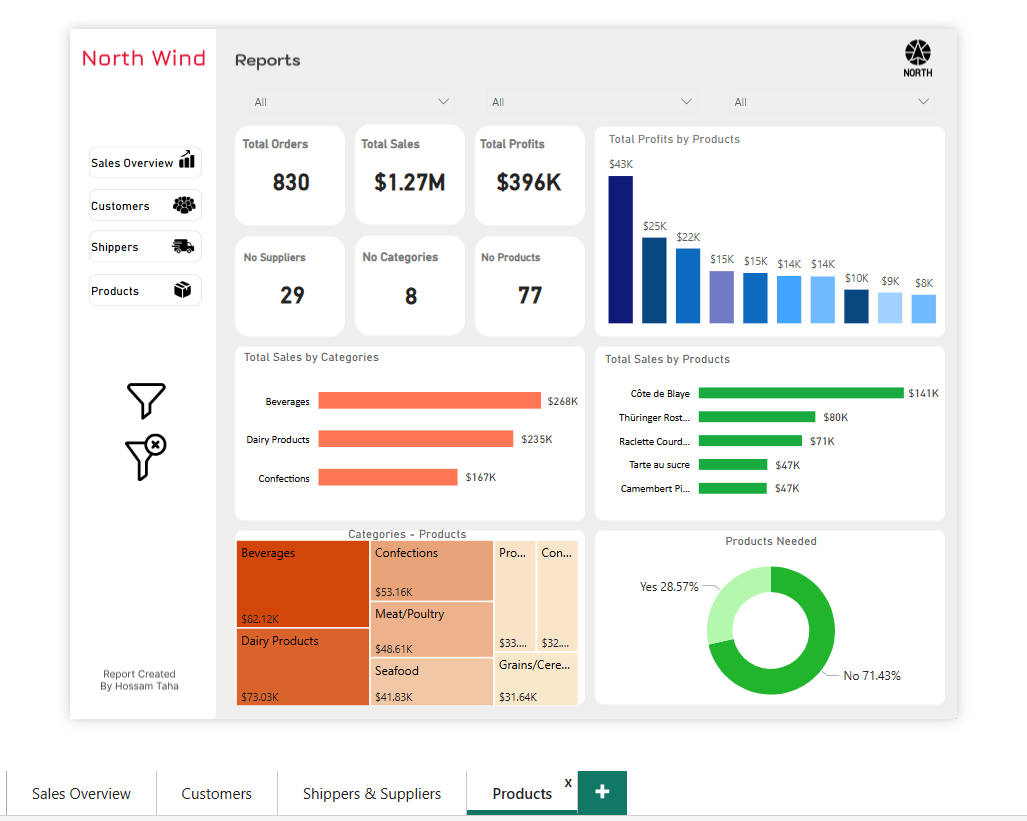

The dashboard page shown, as its layout file describes it:
{"tool":"powerbi","page":{"name":"Products","canvas":[887,690],"ordinal":3},"visuals":[{"type":"card","title":"Total Orders","fields":{"Values":["Orders (2).Total Orders"]},"box":[167.8,107.8,107.8,76.7],"z":0},{"type":"shape","box":[18.9,117.8,113.3,32.2],"z":0,"group":"g2"},{"type":"shape","box":[18.9,161.1,113.3,32.2],"z":1000,"group":"g2"},{"type":"card","title":"No Products","fields":{"Values":["Products.No Products"]},"box":[405.8,221.1,107.8,76.7],"z":1000},{"type":"card","title":"Total Sales","fields":{"Values":["Orders (2).Total Sales"]},"box":[286.7,107.8,107.8,76.7],"z":2000},{"type":"shape","box":[18.9,202.3,113.3,32.2],"z":2000,"group":"g2"},{"type":"card","title":"No Categories","fields":{"Values":["Categories.No Categories"]},"box":[286.9,221.1,107.8,76.7],"z":3000},{"type":"shape","box":[18.9,245.6,113.3,32.2],"z":3000,"group":"g2"},{"type":"image","box":[101,115.6,31.3,30.2],"z":4000,"group":"g2"},{"type":"card","title":"No Suppliers","fields":{"Values":["Suppliers.No Suppliers"]},"box":[168.9,221.1,107.8,76.7],"z":4000},{"type":"card","title":"Total Profits","fields":{"Values":["Order_Details.Total Profit"]},"box":[405.6,107.8,107.8,76.7],"z":5000},{"type":"image","box":[98,160.9,34.2,32.2],"z":5000,"group":"g2"},{"type":"image","box":[94.1,202.1,38.1,32.2],"z":6000,"group":"g2"},{"type":"barChart","title":"Total Sales by Categories","fields":{"Category":["Categories.CategoryName"],"Y":["Order_Details.Total Saless"]},"box":[168.5,321.3,344.4,158.3],"z":6000},{"type":"image","box":[94.1,245.4,38.1,31.2],"z":7000,"group":"g2"},{"type":"group","id":"g1","title":"Group 5","box":[33.3,343.3,84.4,113.3],"z":7000},{"type":"barChart","title":"Total Sales by Products","fields":{"Y":["Order_Details.Total Saless"],"Category":["Products.ProductName"]},"box":[530,322,344,158],"z":8000},{"type":"image","box":[40,343.3,72.2,55.6],"z":9000,"group":"g1"},{"type":"treemap","title":"Categories - Products","fields":{"Group":["Categories.CategoryName","Products.ProductName"],"Values":["Order_Details.Total Profit"]},"box":[161.1,497.8,352.2,184.4],"z":9000},{"type":"slicer","fields":{"Values":["Orders.ShipRegion Hierarchy.ShipRegion","Orders.ShipRegion Hierarchy.ShipCountry","Orders.ShipRegion Hierarchy.ShipCity"]},"box":[168.3,50,225.8,45.8],"z":10000},{"type":"image","box":[33.3,400,84.4,56.7],"z":10000,"group":"g1"},{"type":"slicer","fields":{"Values":["Orders.ShippedDate.Variation.Date Hierarchy.Year","Orders.ShippedDate.Variation.Date Hierarchy.Quarter","Orders.ShippedDate.Variation.Date Hierarchy.Month","Orders.ShippedDate.Variation.Date Hierarchy.Day"]},"box":[406.2,50,231.2,41.2],"z":11000},{"type":"slicer","fields":{"Values":["Employees.FullName"]},"box":[648.3,50,225.8,45.8],"z":12000},{"type":"columnChart","title":"Total Profits by Products","fields":{"Category":["Products.ProductName"],"Y":["Order_Details.Total Profit"],"Series":["Categories.CategoryName"]},"box":[533.7,103,338,197.8],"z":13000},{"type":"donutChart","title":"Products Needed","fields":{"Category":["Products.NeedsReorder"],"Y":["CountNonNull(Products.NeedsReorder)"]},"box":[525.6,505.6,352.2,184.4],"z":14000},{"type":"group","id":"g2","title":"Group 2","box":[18.9,115.6,113.3,162.2],"z":15000}]}

Visuals, with their boxes on the page's 887x690 design canvas (x1, y1, x2, y2). These are canvas units, not pixel positions in the 1027x821 screenshot, which may show the page scaled, cropped or inside an application window:
"Total Orders" card: <box>168,108,276,184</box>
shape: <box>19,118,132,150</box>
shape: <box>19,161,132,193</box>
"No Products" card: <box>406,221,514,298</box>
"Total Sales" card: <box>287,108,394,184</box>
shape: <box>19,202,132,234</box>
"No Categories" card: <box>287,221,395,298</box>
shape: <box>19,246,132,278</box>
image: <box>101,116,132,146</box>
"No Suppliers" card: <box>169,221,277,298</box>
"Total Profits" card: <box>406,108,513,184</box>
image: <box>98,161,132,193</box>
image: <box>94,202,132,234</box>
"Total Sales by Categories" barChart: <box>168,321,513,480</box>
image: <box>94,245,132,277</box>
"Group 5" group: <box>33,343,118,457</box>
"Total Sales by Products" barChart: <box>530,322,874,480</box>
image: <box>40,343,112,399</box>
"Categories - Products" treemap: <box>161,498,513,682</box>
slicer - Orders.ShipRegion Hierarchy.ShipRegion x Orders.ShipRegion Hierarchy.ShipCountry: <box>168,50,394,96</box>
image: <box>33,400,118,457</box>
slicer - Orders.ShippedDate.Variation.Date Hierarchy.Year x Orders.ShippedDate.Variation.Date Hierarchy.Quarter: <box>406,50,637,91</box>
slicer - Employees.FullName: <box>648,50,874,96</box>
"Total Profits by Products" columnChart: <box>534,103,872,301</box>
"Products Needed" donutChart: <box>526,506,878,690</box>
"Group 2" group: <box>19,116,132,278</box>
